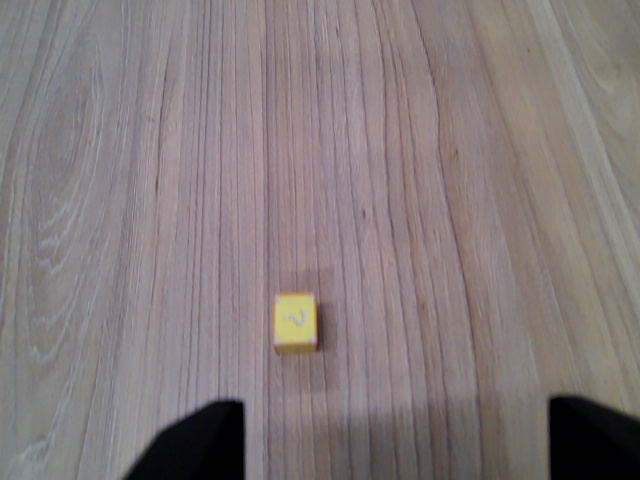lucky: (266, 288, 322, 358)
